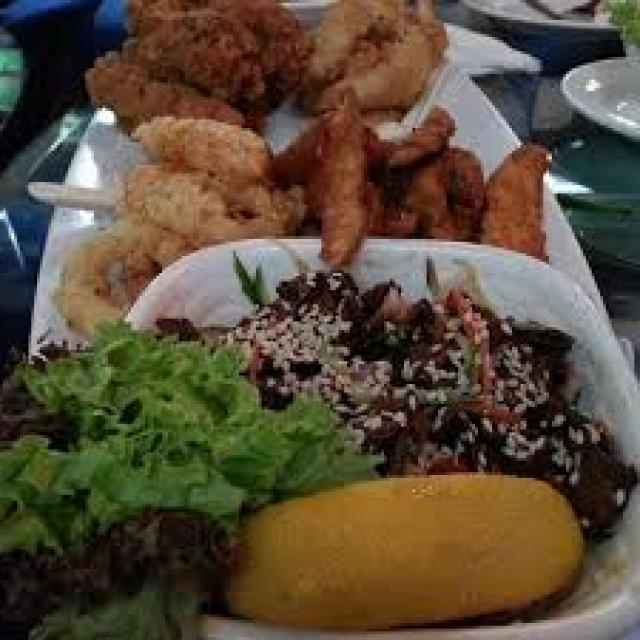Chicken Wings: (282, 3, 554, 262)
Onion Rings: (46, 108, 290, 333)
